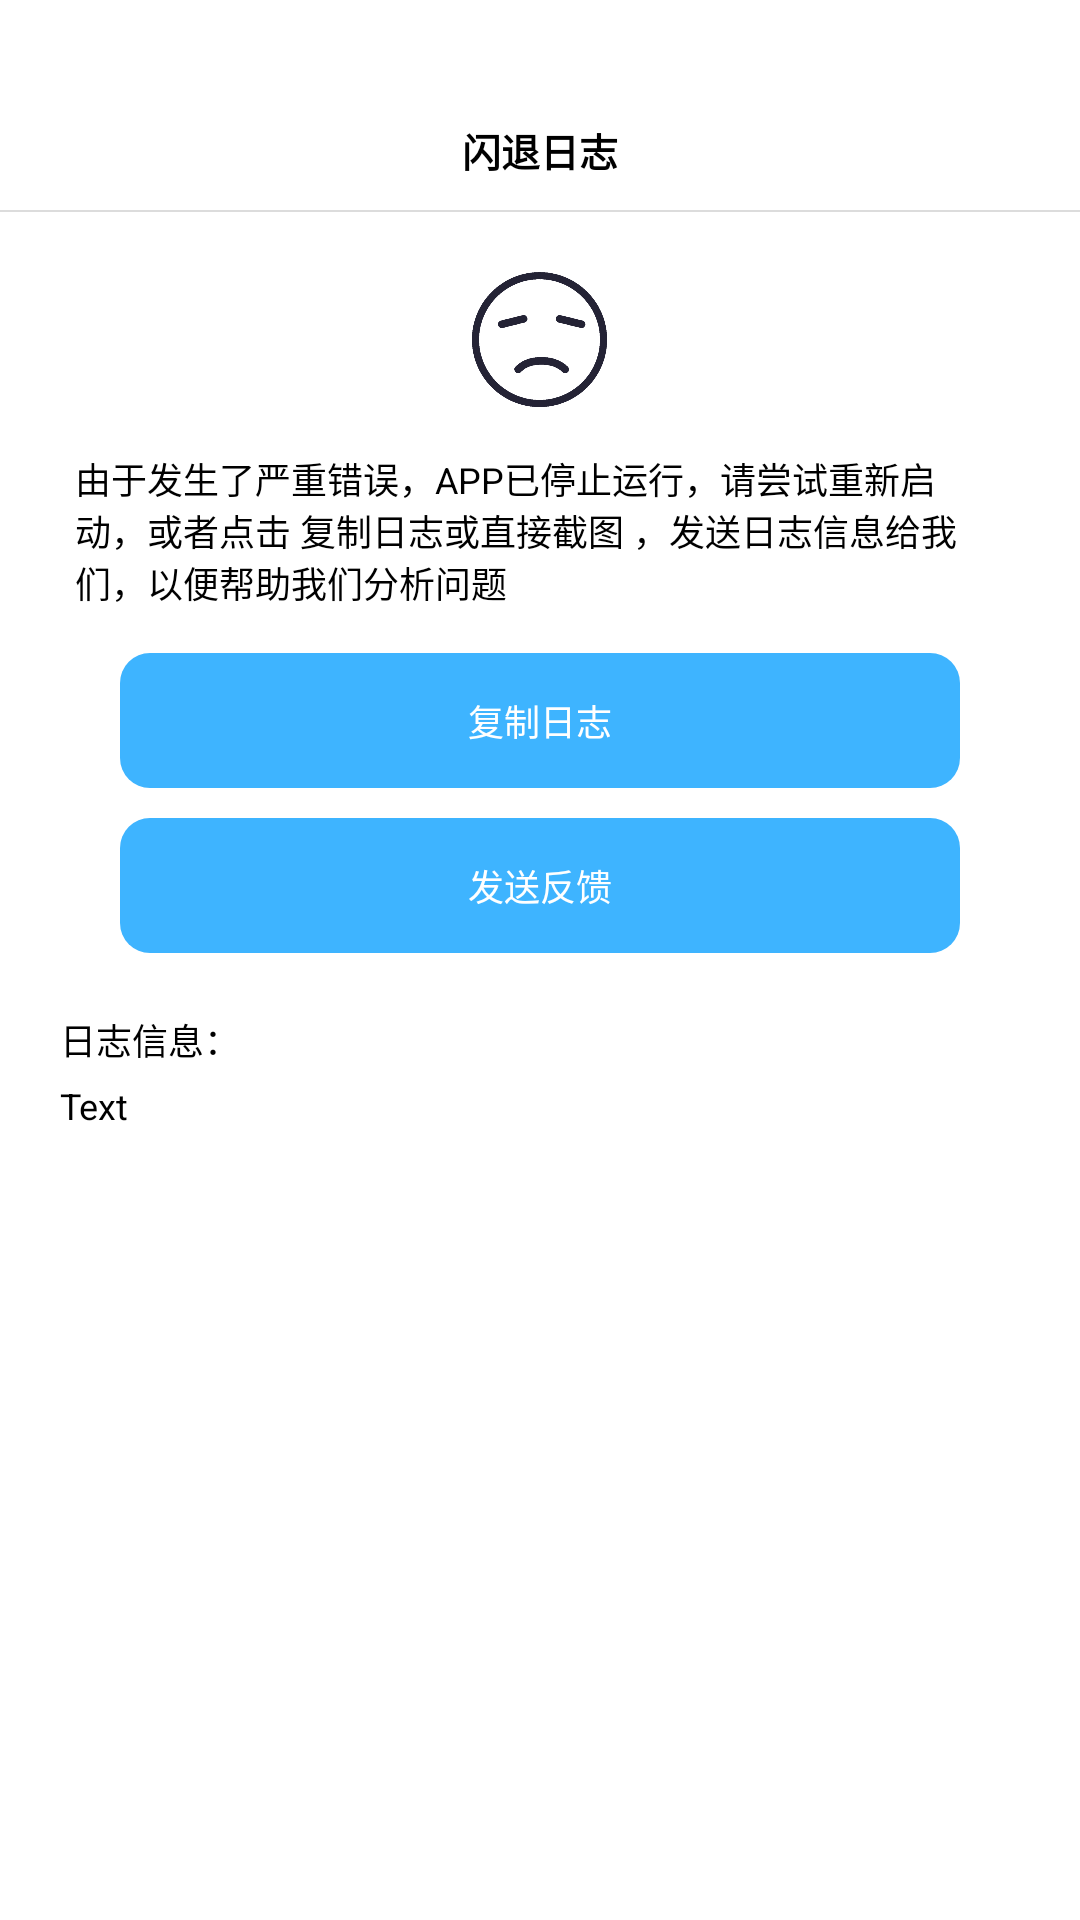

Where to tap for icons on this 1080 x 1920 app screen, as [x,y]:
cry face: [539,339]
